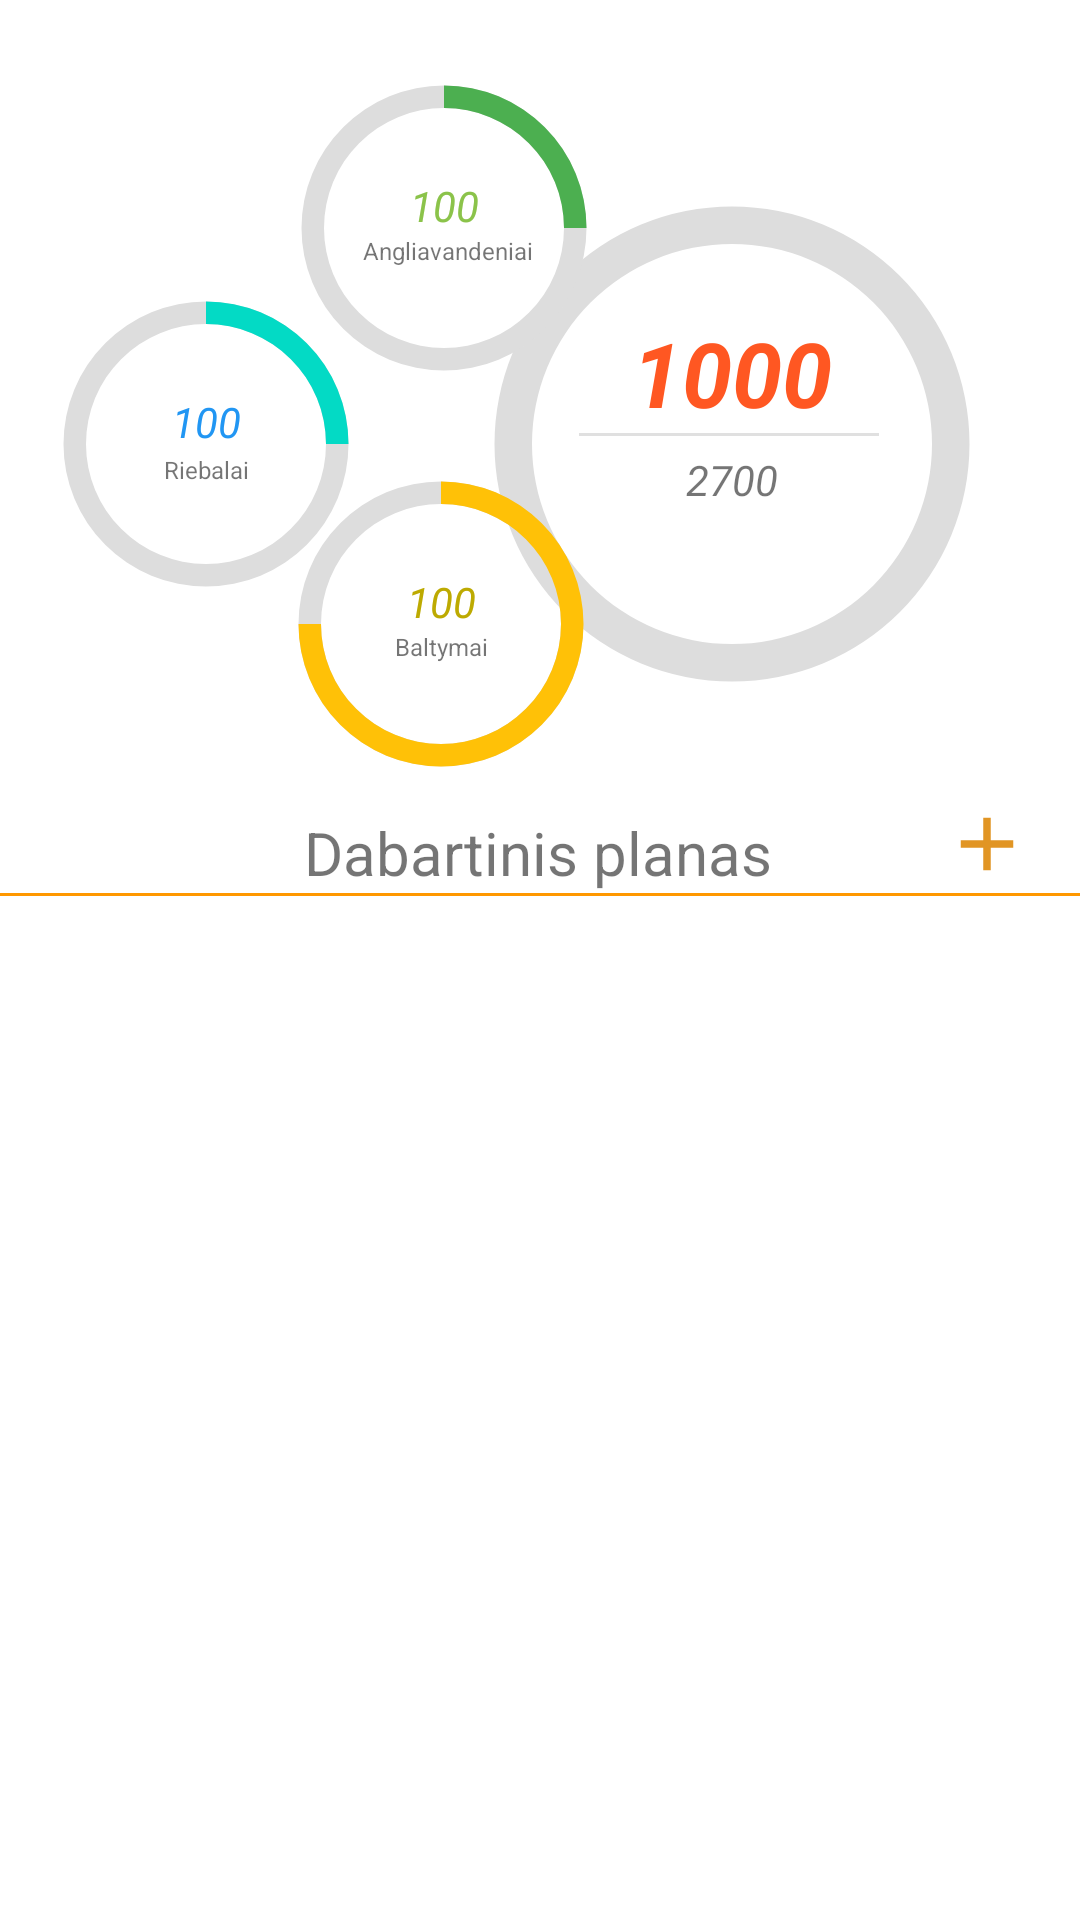

Screen size 1080 × 1920. Icon name, then its box in pixels as (x1, y1, x2, y2):
add: (960, 817, 1014, 871)
